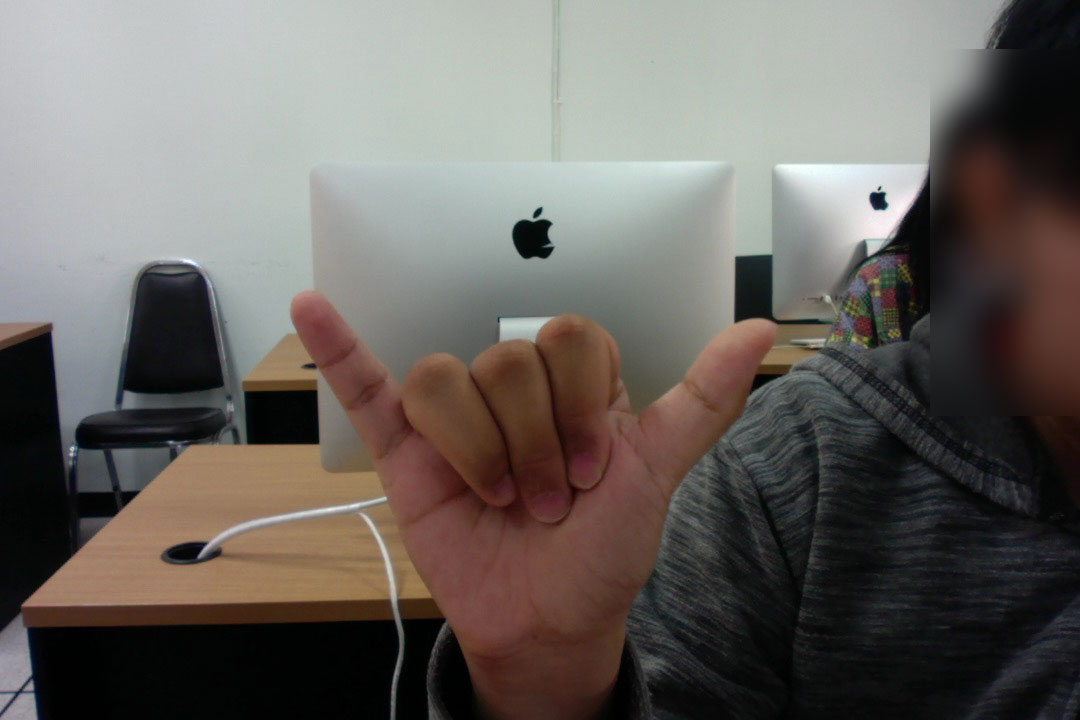yor: (280, 279, 785, 660)
